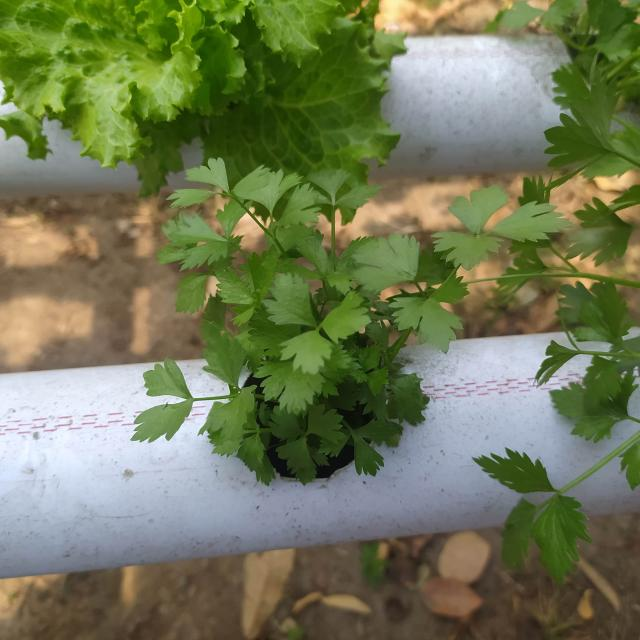Wet Waste: (149, 174, 451, 491)
